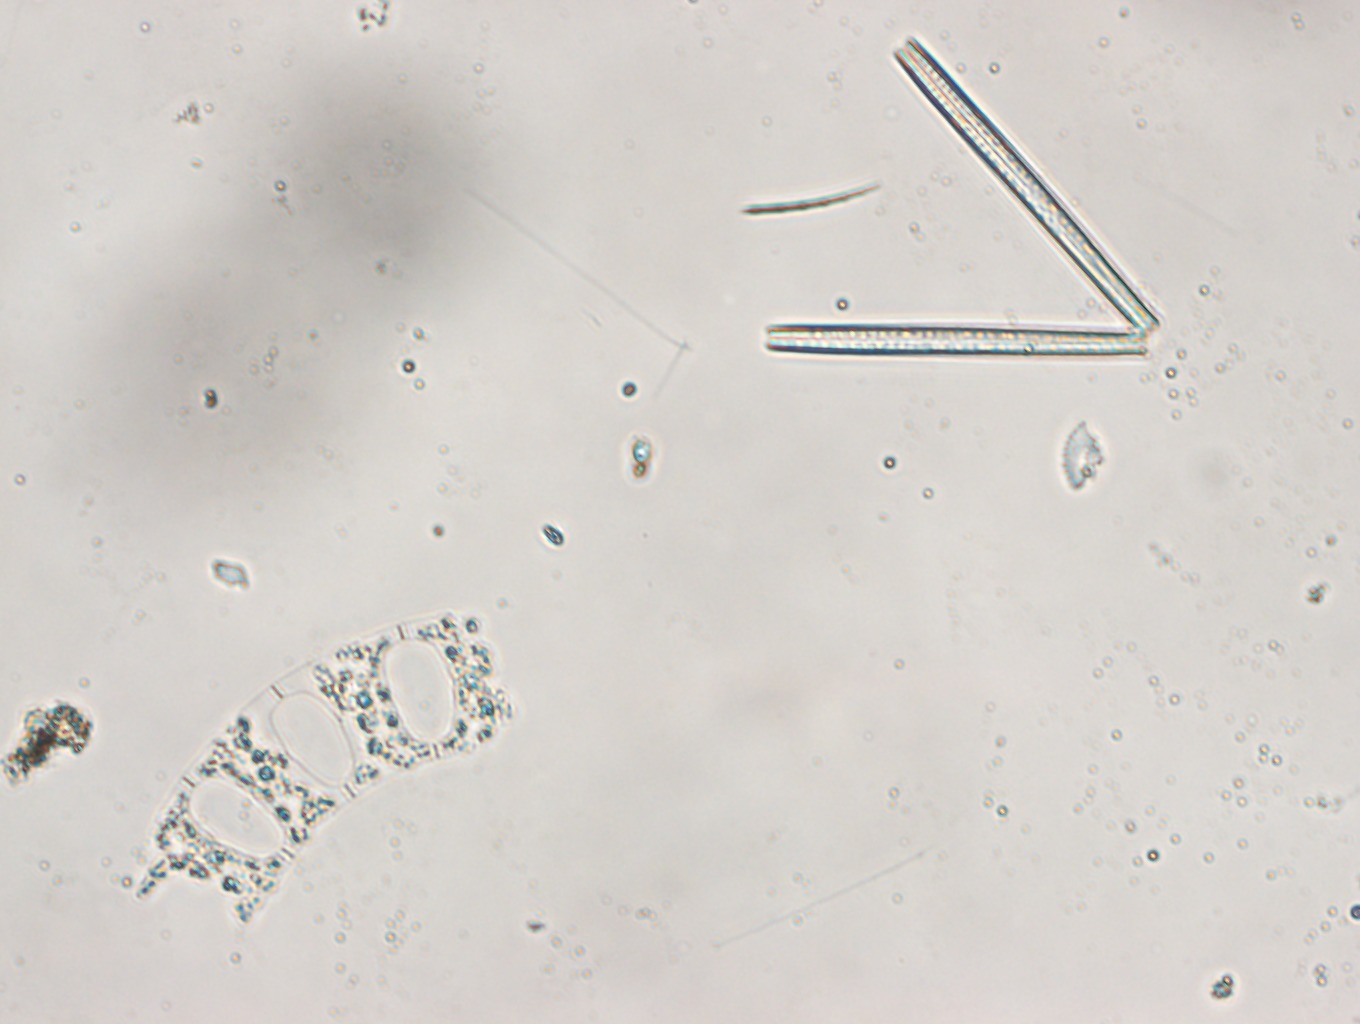eucampia: (133, 605, 527, 936)
thalassionema nitzschioides: (760, 33, 1166, 366)
